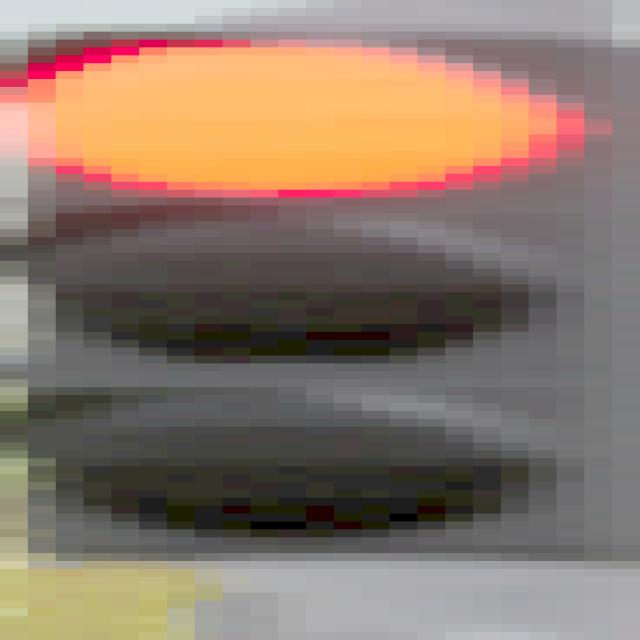red_light: (0, 43, 640, 559)
